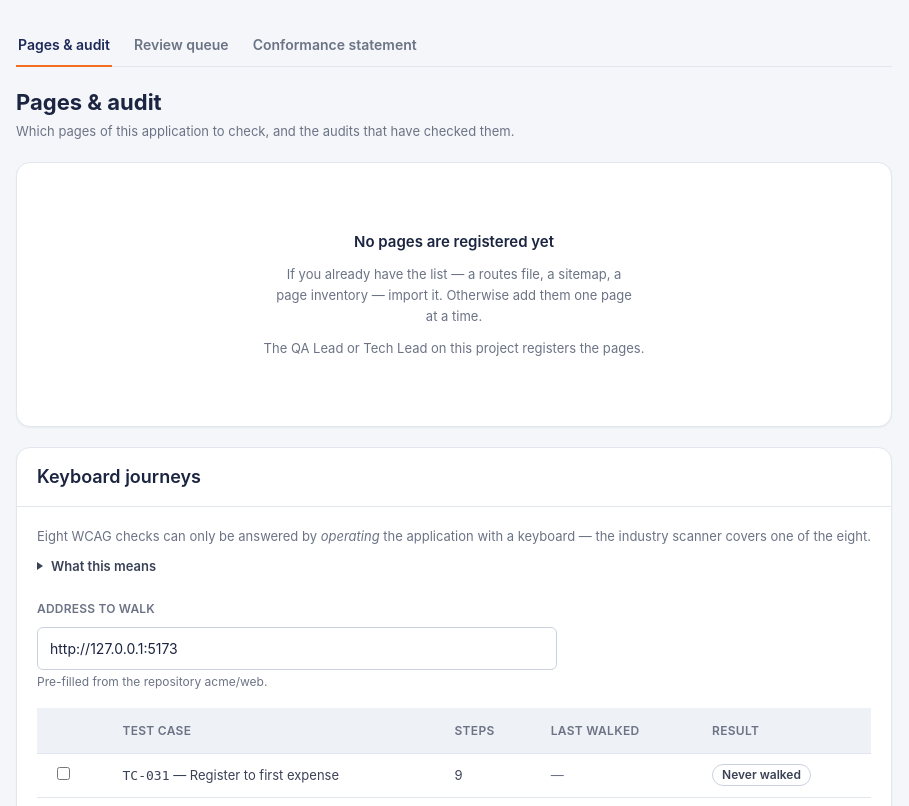
Keyboard journeys (G6c) › starts the ticked journeys and says what happened to each
The image size is (909, 806).
Expected: the text "TC-031" is shown, [122,768,170,782]
Step 1. Click the checkbox named "Walk TC-031" → [64, 774], box [57,767,70,780]
(page scrolled)
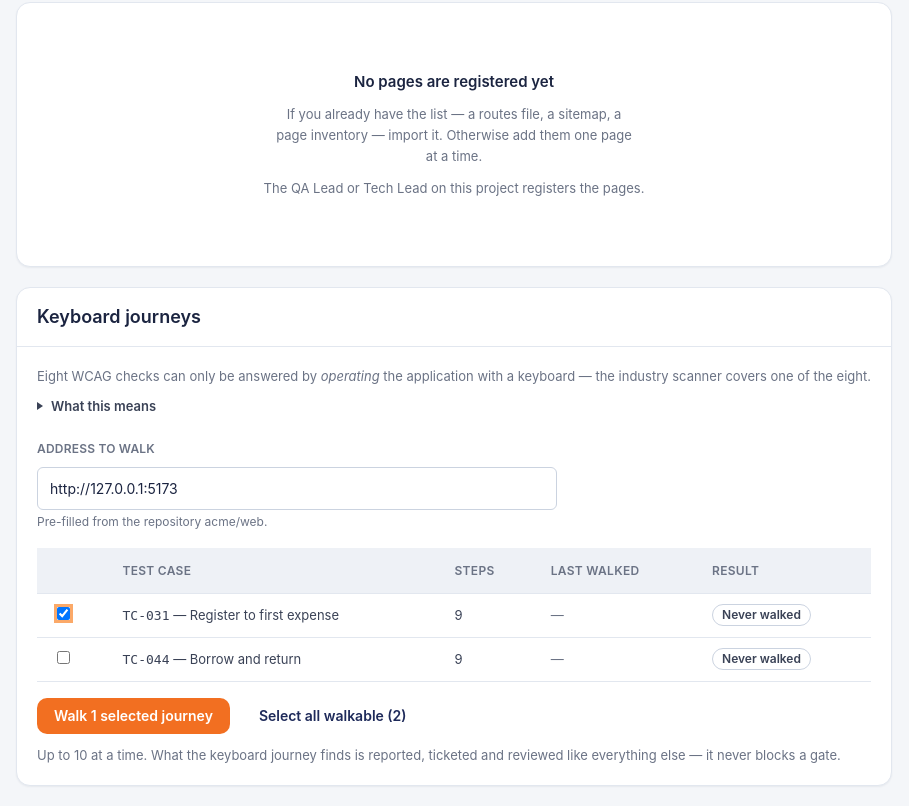
Step 2. Click the checkbox named "Walk TC-044" → [64, 658], box [57,651,70,664]
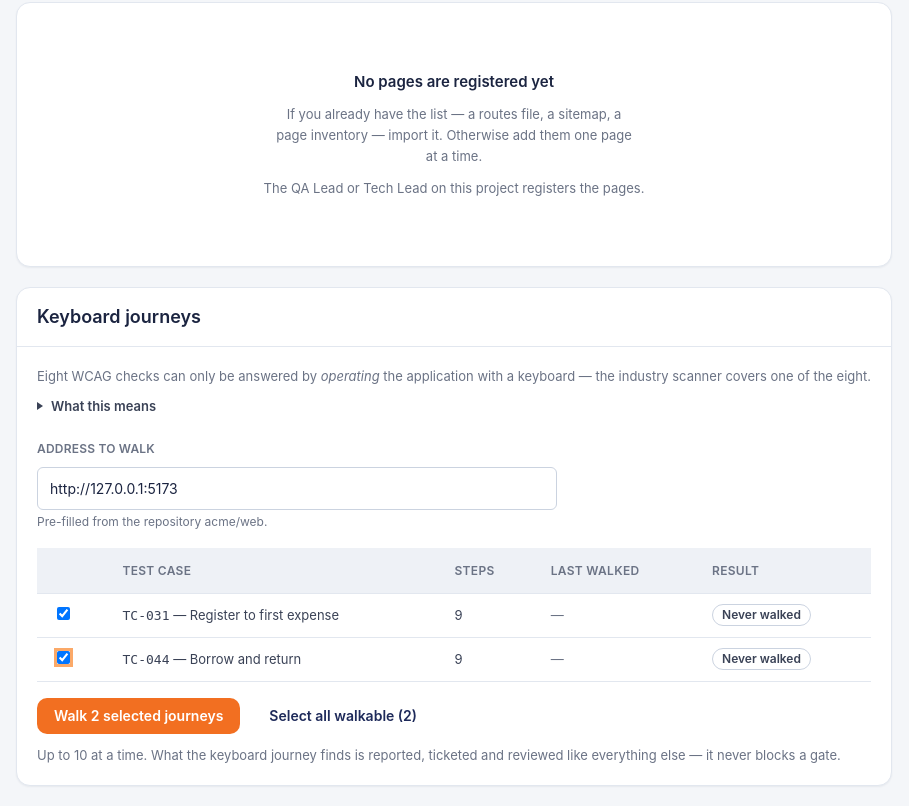
Now the button "Walk 2 selected journeys" is shown
Step 3. Click the button "Walk 2 selected journeys" → [139, 716], box [37,698,240,734]
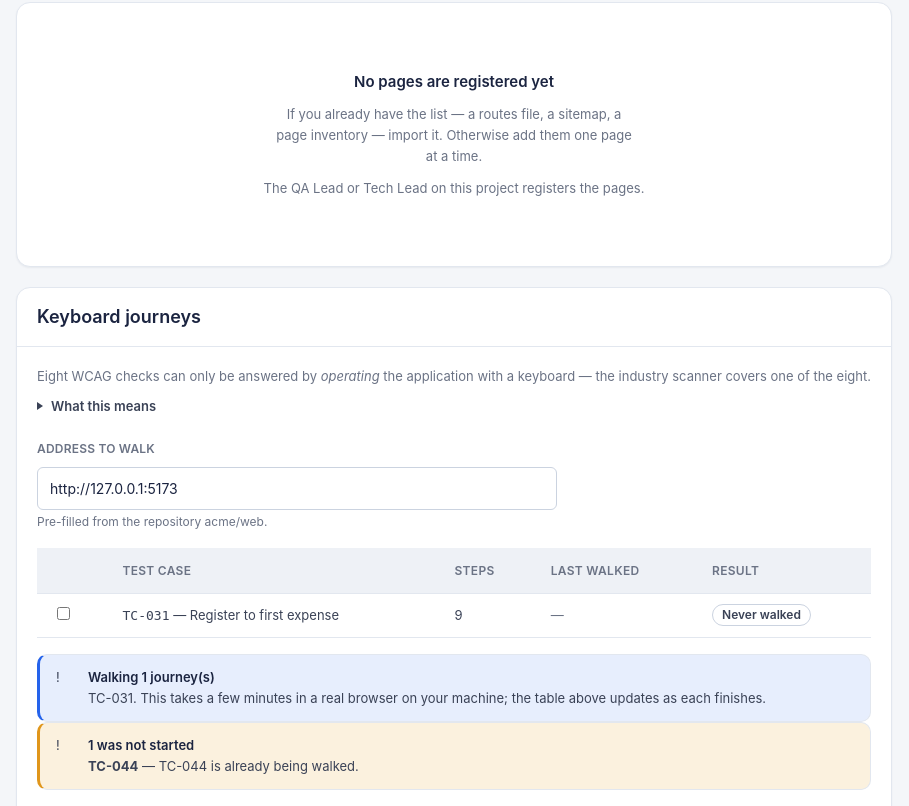
Now the text "Walking 1 journey(s)" is shown, box [88,668,215,684]
Now the text "1 was not started" is shown, box [88,736,194,752]
Now the list item "TC-044 — TC-044 is already being walked." is shown, box [88,758,359,774]
